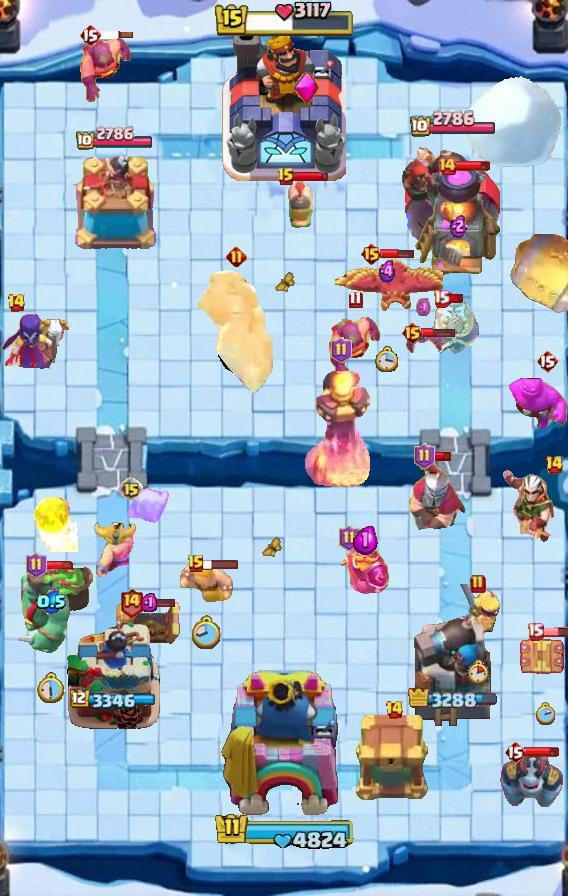archer: (180, 562, 234, 606)
arrows: (454, 584, 502, 636)
axe: (0, 314, 70, 374)
barbarian-barrel: (404, 329, 444, 355)
bomb: (355, 714, 433, 802)
clock: (210, 811, 358, 853), (213, 0, 355, 40)
dirt: (508, 226, 568, 318)
electro-dragon: (302, 368, 380, 494)
electro-spirit: (353, 525, 378, 556), (36, 590, 67, 614), (378, 260, 399, 283), (449, 213, 467, 238), (416, 297, 432, 319), (139, 592, 156, 612)
elixir: (192, 615, 222, 651), (37, 672, 66, 704), (375, 346, 399, 372), (467, 659, 489, 685), (535, 702, 555, 726)
elixir-collector: (426, 296, 482, 356)
elixir-golem-small: (497, 749, 565, 811)
emote: (455, 160, 491, 172), (293, 171, 329, 183), (203, 558, 239, 570), (140, 596, 176, 608), (524, 746, 560, 758), (380, 248, 415, 260), (421, 327, 456, 338), (98, 30, 134, 40), (540, 626, 567, 638), (44, 560, 76, 570), (432, 451, 452, 462), (447, 292, 465, 303)
executioner: (286, 173, 316, 229)
firecracker-evolution: (341, 537, 390, 595)
goblin-brawler: (112, 600, 184, 648), (518, 634, 568, 680)
goblin-giant: (92, 521, 136, 577)
hunter: (414, 168, 502, 278)
king-tower: (219, 670, 349, 826), (222, 31, 346, 181)
lava-hound: (7, 561, 95, 655)
mirror: (125, 485, 171, 527)
monk: (79, 34, 133, 104), (328, 314, 382, 384)
mother-witch: (331, 257, 443, 327)
queen-tower: (65, 617, 163, 731), (68, 156, 160, 256)
selected: (409, 110, 497, 139), (408, 688, 498, 712), (74, 126, 154, 152), (70, 689, 158, 711)
skeleton-king: (500, 469, 568, 545)
skeleton-king-skill: (291, 71, 319, 105)
text: (119, 587, 144, 617), (119, 477, 143, 501), (361, 242, 384, 266), (400, 321, 423, 345), (332, 337, 353, 363), (414, 443, 435, 469), (339, 525, 360, 551), (25, 552, 46, 578), (79, 23, 101, 47), (536, 349, 558, 373), (504, 740, 526, 764), (225, 245, 247, 266), (437, 156, 457, 176), (6, 293, 26, 313), (544, 455, 564, 475), (384, 700, 404, 720), (277, 167, 295, 187), (187, 554, 205, 574), (433, 288, 451, 307), (527, 623, 545, 641), (470, 574, 486, 594), (349, 290, 364, 309)
tornado: (500, 375, 568, 431)
tower-bar: (402, 136, 504, 256), (410, 611, 496, 731)
valkyrie: (30, 496, 78, 552)
wall-breaker: (466, 75, 563, 170)
wall-breaker-evolution: (408, 452, 468, 532)
wizard: (198, 270, 274, 396)
